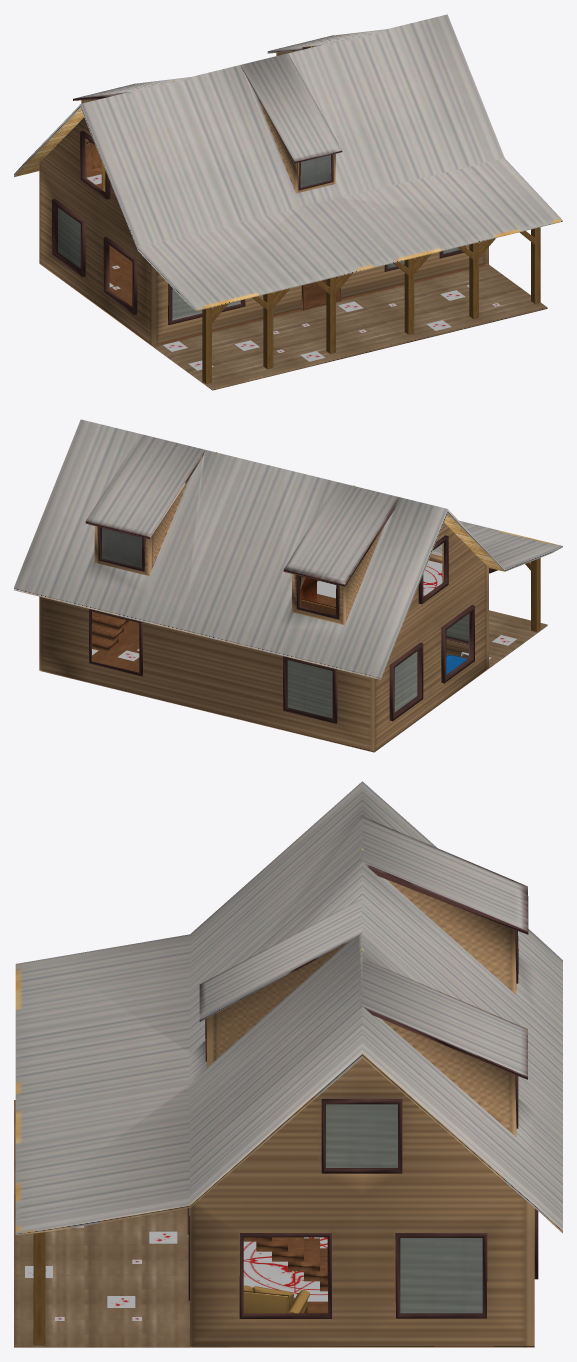
Rendered from MAP 4.fbx.
3 views of the same model, one above another, from view 1: azimuth 30°, elevation 25°; view 2: azimuth 150°, elevation 25°; view 3: azimuth 270°, elevation 25° (orthographic). The views are drawn at different scales.
Visible parts, largest first — view 1: UP, House01, House02, Door, Upstair; view 2: UP, House01, Upstair, Alpha_04, House02; view 3: UP, House01, Alpha_01, Upstair, Sofa2, House02.
Part boxes in pixels (bbox=[...]): UP: bbox=[14, 14, 562, 311]; House01: bbox=[39, 117, 547, 390]; House02: bbox=[202, 227, 540, 383]; Door: bbox=[301, 276, 340, 309]; Upstair: bbox=[86, 142, 101, 188]; UP: bbox=[14, 419, 562, 679]; House01: bbox=[39, 522, 547, 752]; Upstair: bbox=[92, 559, 442, 650]; Alpha_04: bbox=[317, 560, 442, 598]; House02: bbox=[525, 558, 540, 631]; UP: bbox=[15, 781, 562, 1234]; House01: bbox=[14, 1058, 538, 1347]; Alpha_01: bbox=[243, 1237, 327, 1301]; Upstair: bbox=[243, 1237, 327, 1291]; Sofa2: bbox=[243, 1285, 310, 1313]; House02: bbox=[33, 1232, 45, 1345].
Size of the model in its own units: 1166 by 627 by 1006.
